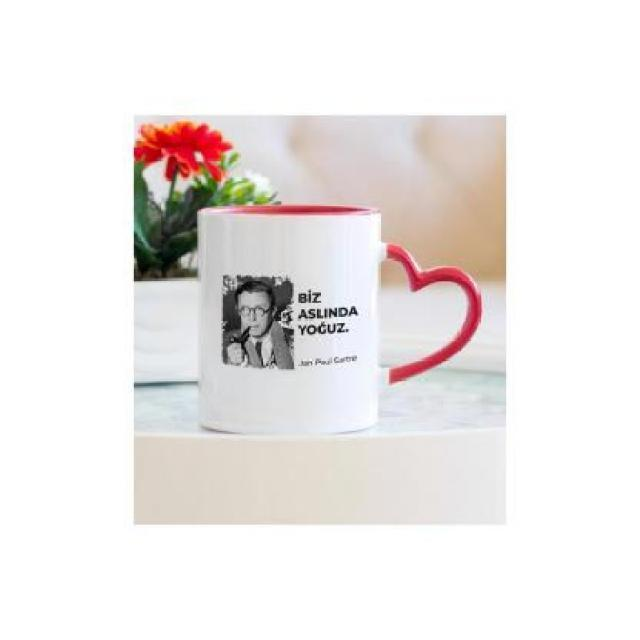taza: (174, 192, 491, 438)
